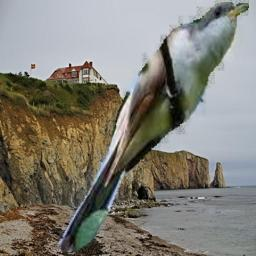Cuckoo: (58, 0, 249, 252)
